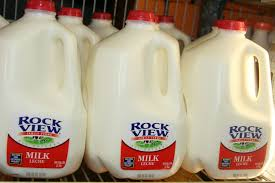milk: (89, 11, 186, 180), (1, 4, 82, 177), (187, 20, 271, 177), (60, 4, 100, 42), (160, 14, 192, 36), (255, 18, 275, 46), (90, 12, 116, 32)
